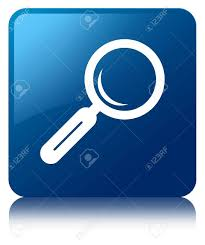searchIcon: (39, 37, 167, 165)
